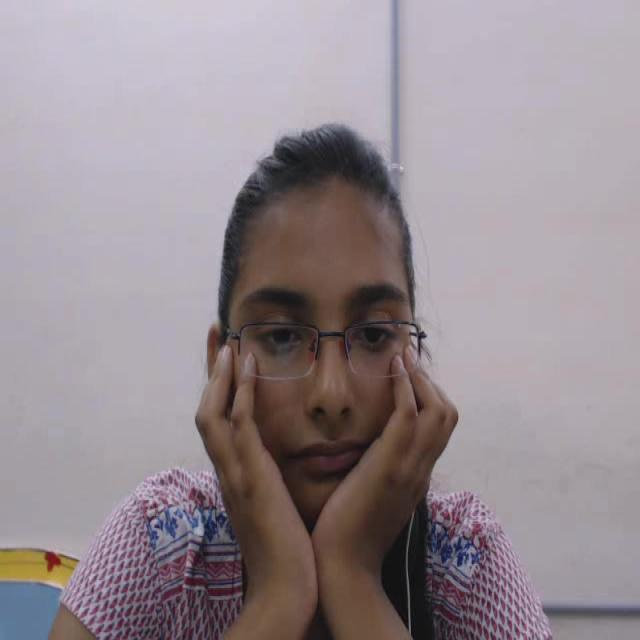Bored: (184, 94, 473, 596)
